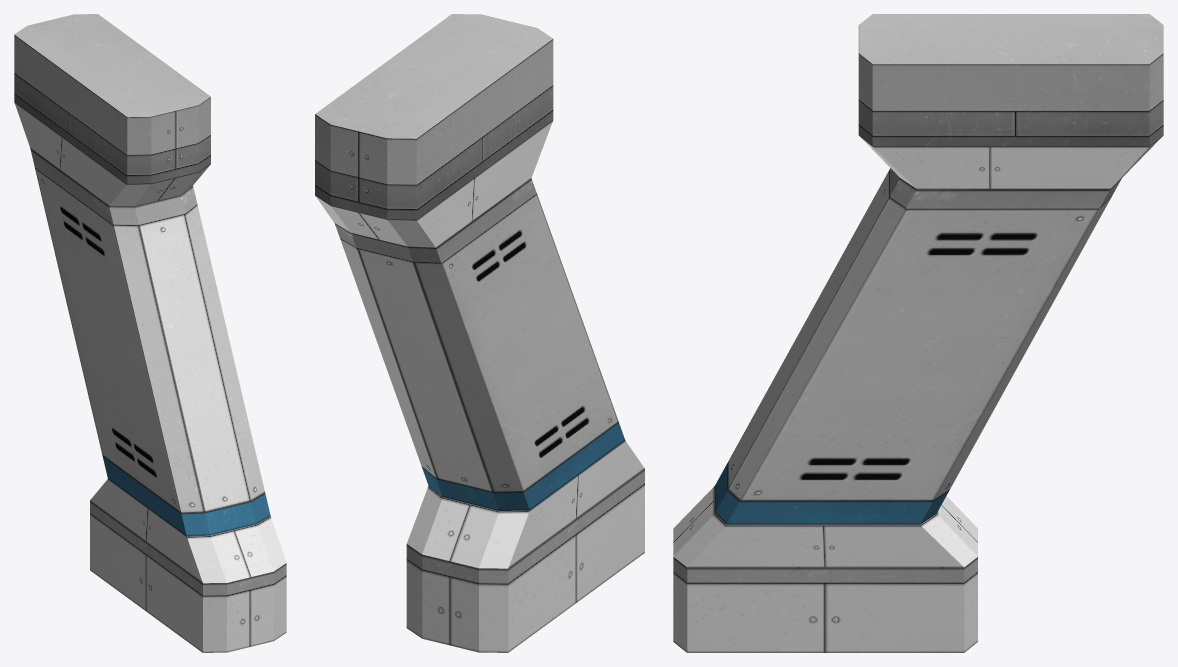
Rendered from Column_02.FBX.
3 renders of one model, left to right at view 1: azimuth 30°, elevation 25°; view 2: azimuth 150°, elevation 25°; view 3: azimuth 270°, elevation 25°, orthographic. The views are drawn at different scales.
Visible parts, largest first — view 1: Column_02; view 2: Column_02; view 3: Column_02.
Boxes of the visible parts, bbox=[...] form: Column_02: bbox=[14, 14, 286, 652]; Column_02: bbox=[315, 14, 644, 652]; Column_02: bbox=[673, 14, 1163, 652].
Bounding box in the file's own units: 25.59 × 140 × 106.
